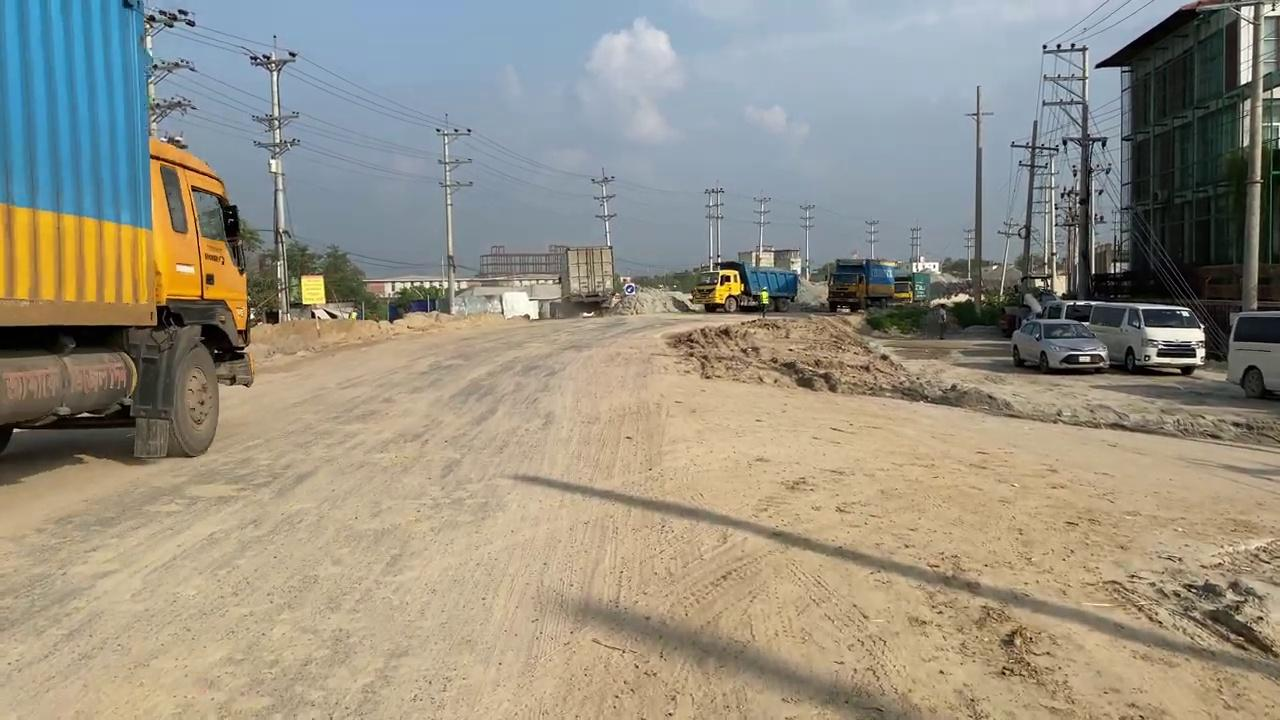Car: (1010, 318, 1110, 373)
Pole: (1239, 2, 1264, 310), (964, 84, 993, 314)
Tree: (0, 0, 255, 460), (690, 259, 798, 313), (529, 250, 635, 303), (998, 274, 1060, 338), (825, 257, 895, 312), (880, 259, 930, 305)
